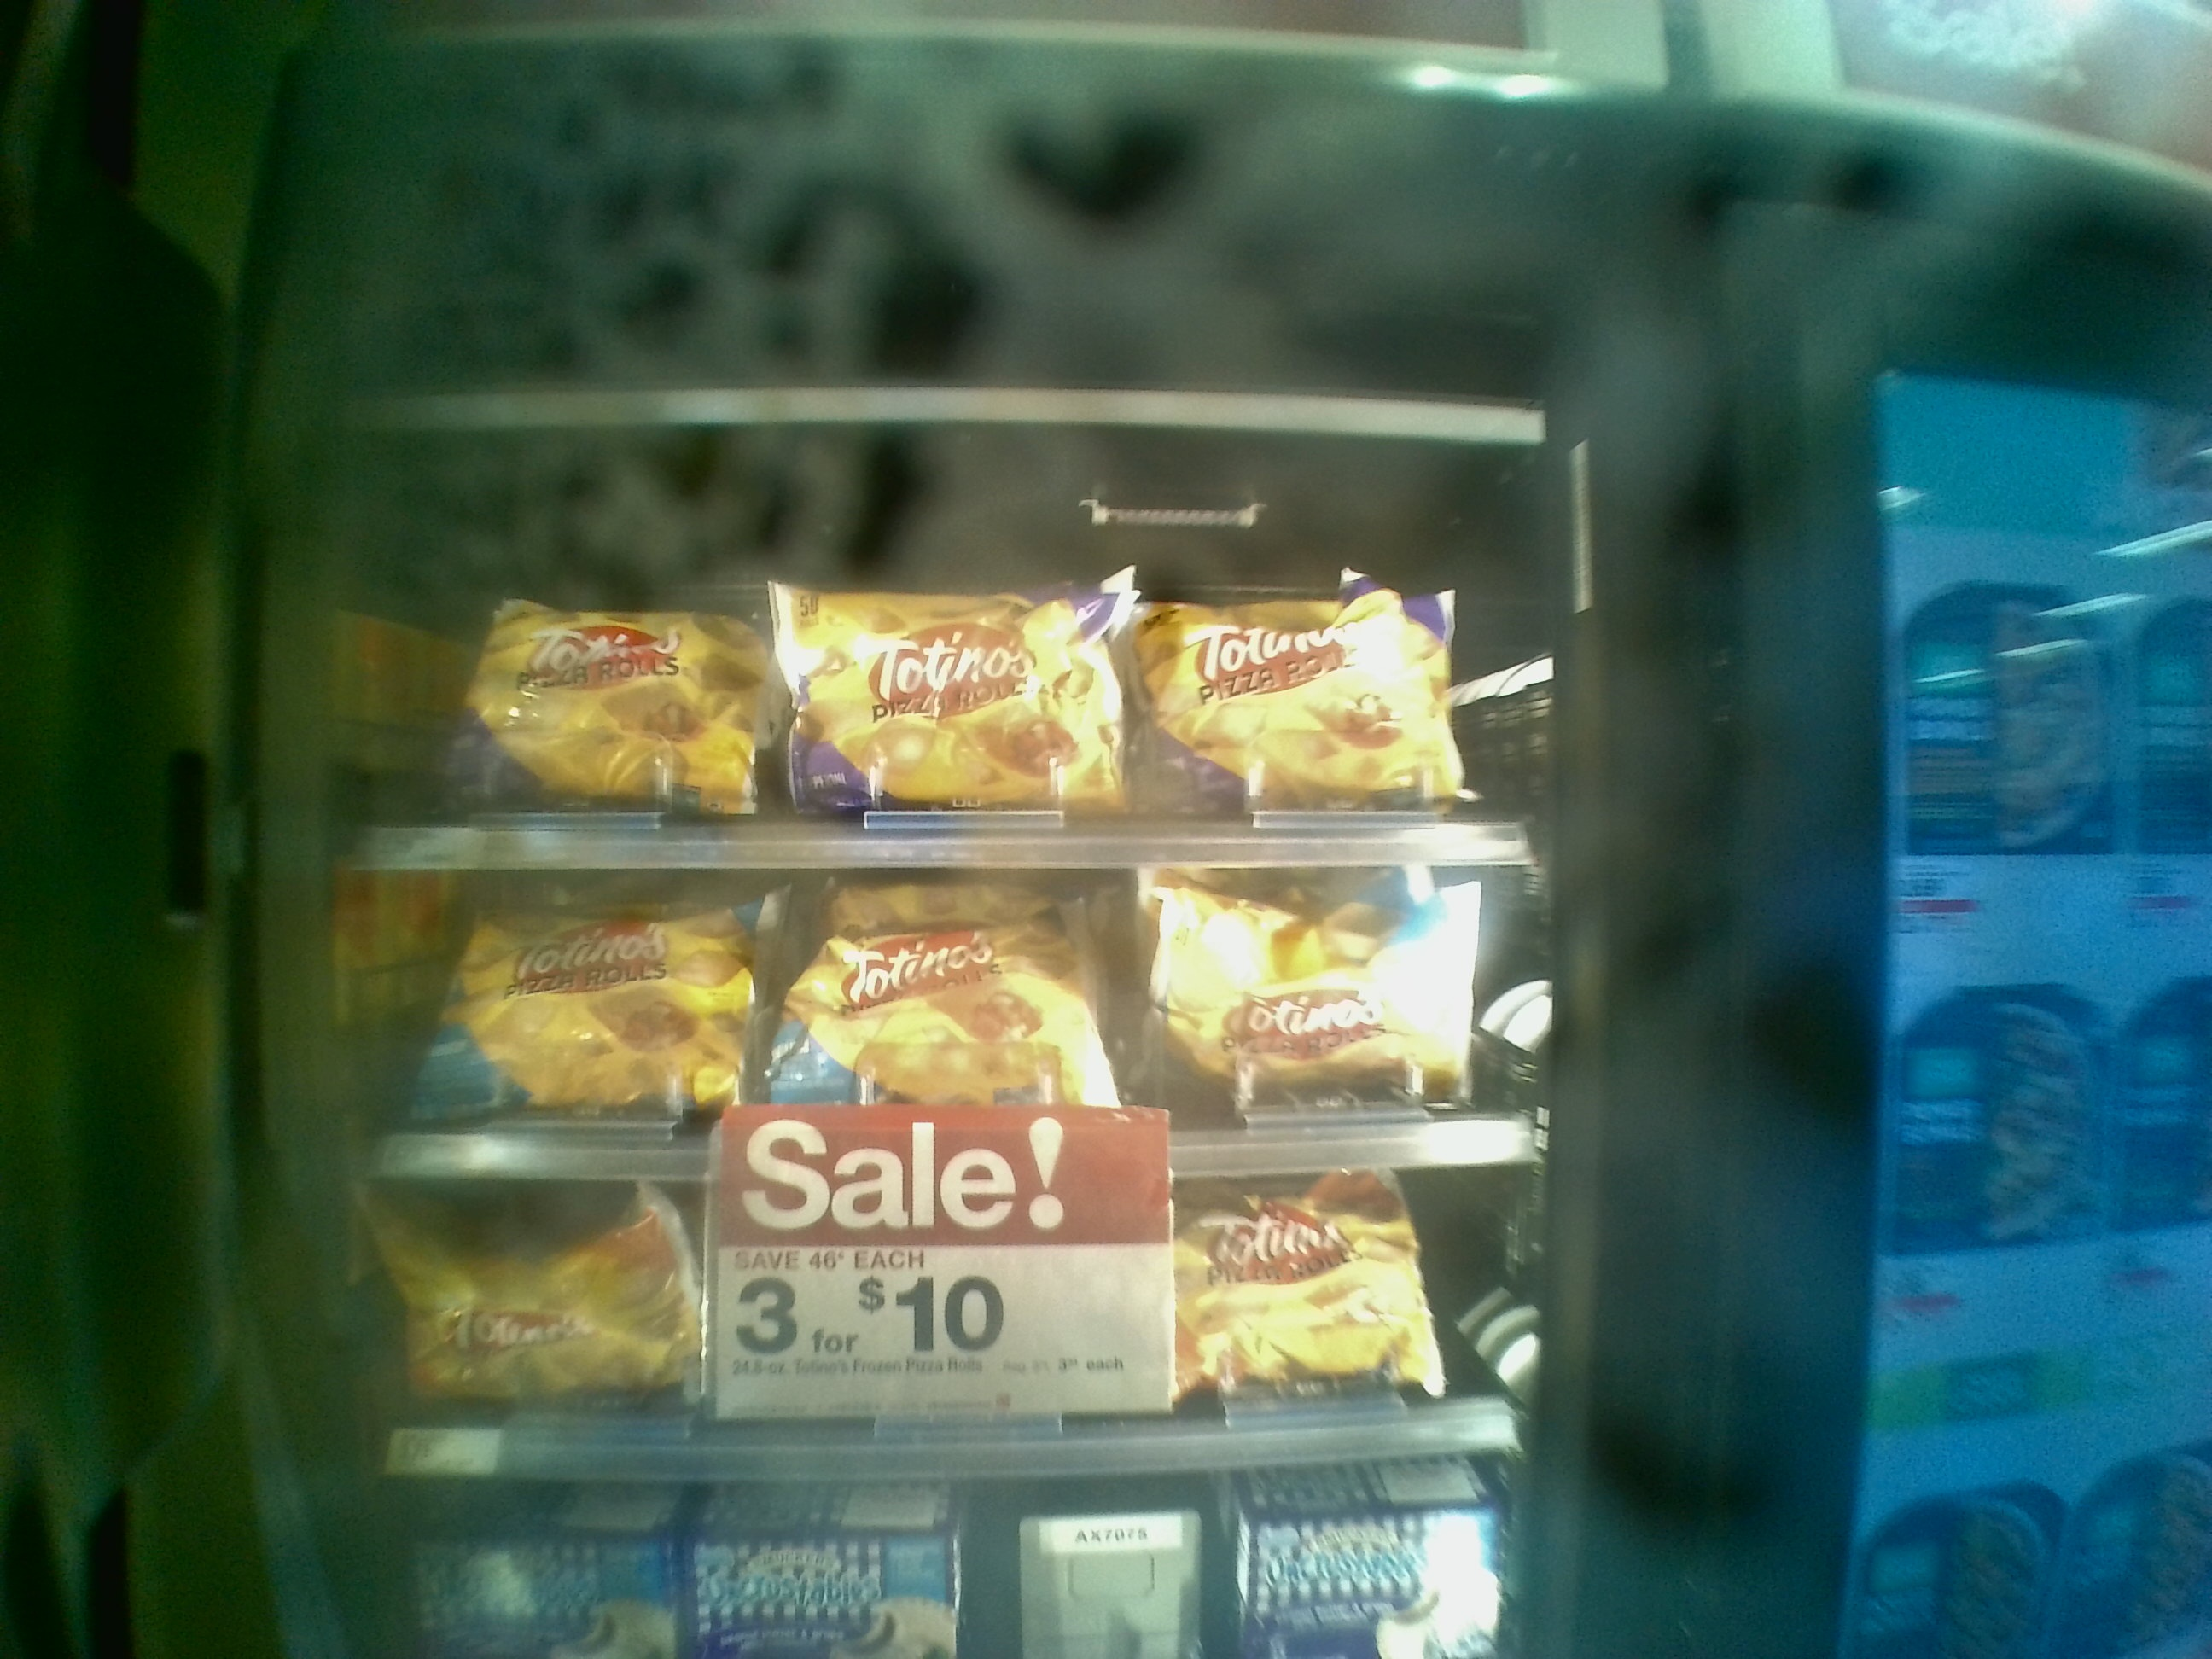shelf: (322, 528, 1534, 849), (317, 829, 1531, 1145), (298, 1148, 1519, 1446)
